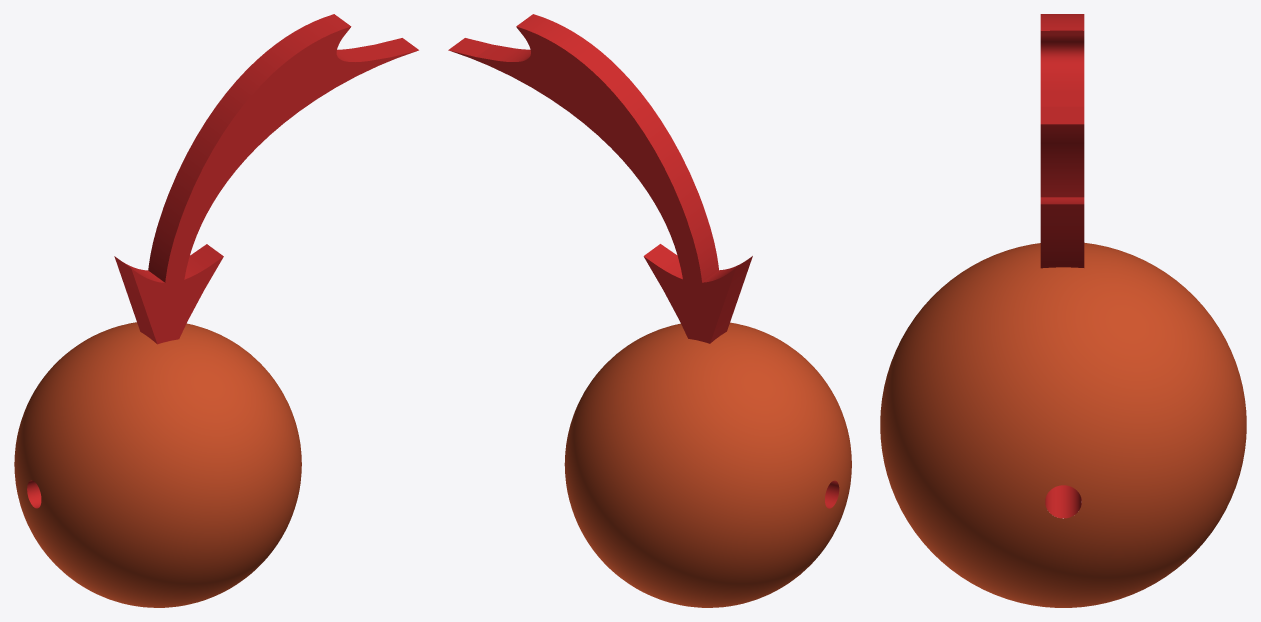
File: Bol met pijl.glb
3 renders of one model, left to right at view 1: azimuth 30°, elevation 25°; view 2: azimuth 150°, elevation 25°; view 3: azimuth 270°, elevation 25°, orthographic. The views are drawn at different scales.
Size of the model in its own units: 0.0302 by 0.0406 by 0.02.
